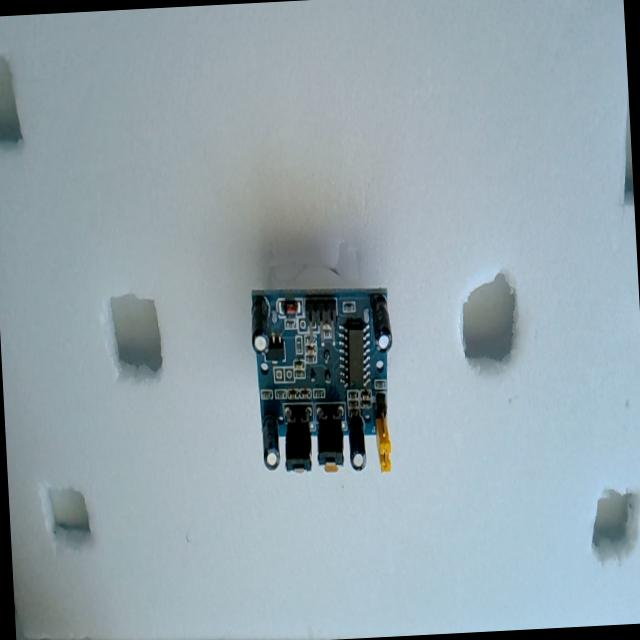Electrolytic capacitor: (371, 295, 393, 352), (250, 298, 272, 354), (261, 413, 281, 471), (348, 414, 368, 471)
IC: (336, 315, 373, 393)
pinheader: (306, 298, 338, 338)
